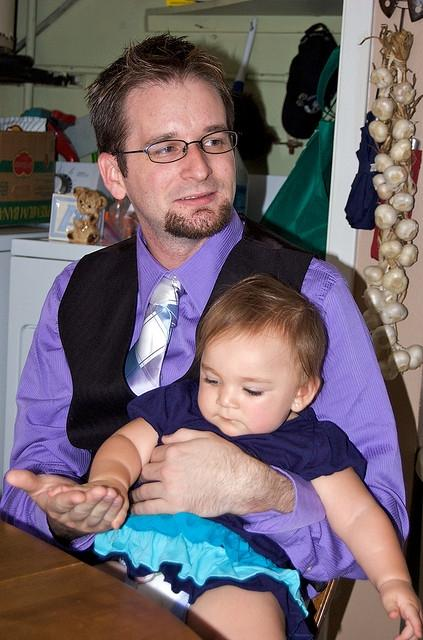garlic: (382, 258, 408, 294), (362, 288, 394, 314), (394, 342, 423, 370), (374, 203, 403, 230), (363, 256, 388, 286), (378, 300, 408, 325), (371, 324, 397, 350), (392, 118, 419, 142), (400, 165, 418, 197), (393, 81, 417, 105), (383, 165, 408, 188), (388, 346, 410, 372), (370, 66, 393, 90), (395, 218, 418, 242), (389, 139, 413, 161), (388, 192, 414, 212), (371, 98, 394, 120), (362, 309, 382, 332), (398, 244, 418, 267), (368, 120, 388, 142), (379, 240, 403, 258), (378, 360, 399, 380), (374, 154, 395, 172), (378, 183, 394, 200), (372, 174, 386, 192)
